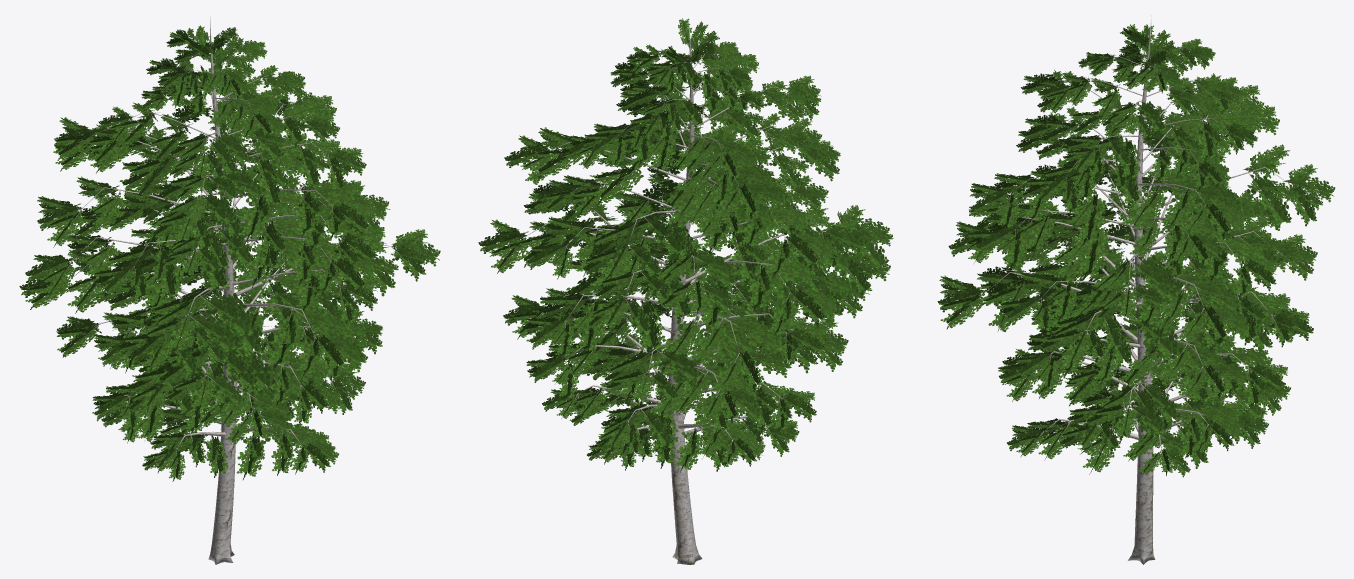
Rendered from silver-birch.glb.
The picture shows the model from 3 angles, left to right: view 1: azimuth 30°, elevation 25°; view 2: azimuth 150°, elevation 25°; view 3: azimuth 270°, elevation 25°; orthographic projection.
Visible parts, largest first — view 1: Silver Birch; view 2: Silver Birch; view 3: Silver Birch.
Boxes of the visible parts, left/top/right/bottom form: Silver Birch: left=19, top=16, right=440, bottom=564; Silver Birch: left=478, top=18, right=893, bottom=564; Silver Birch: left=937, top=15, right=1335, bottom=564.
Bounding box in the file's own units: 8.82 × 12.7 × 8.72.
Materials: 2 (2 with a texture image).
